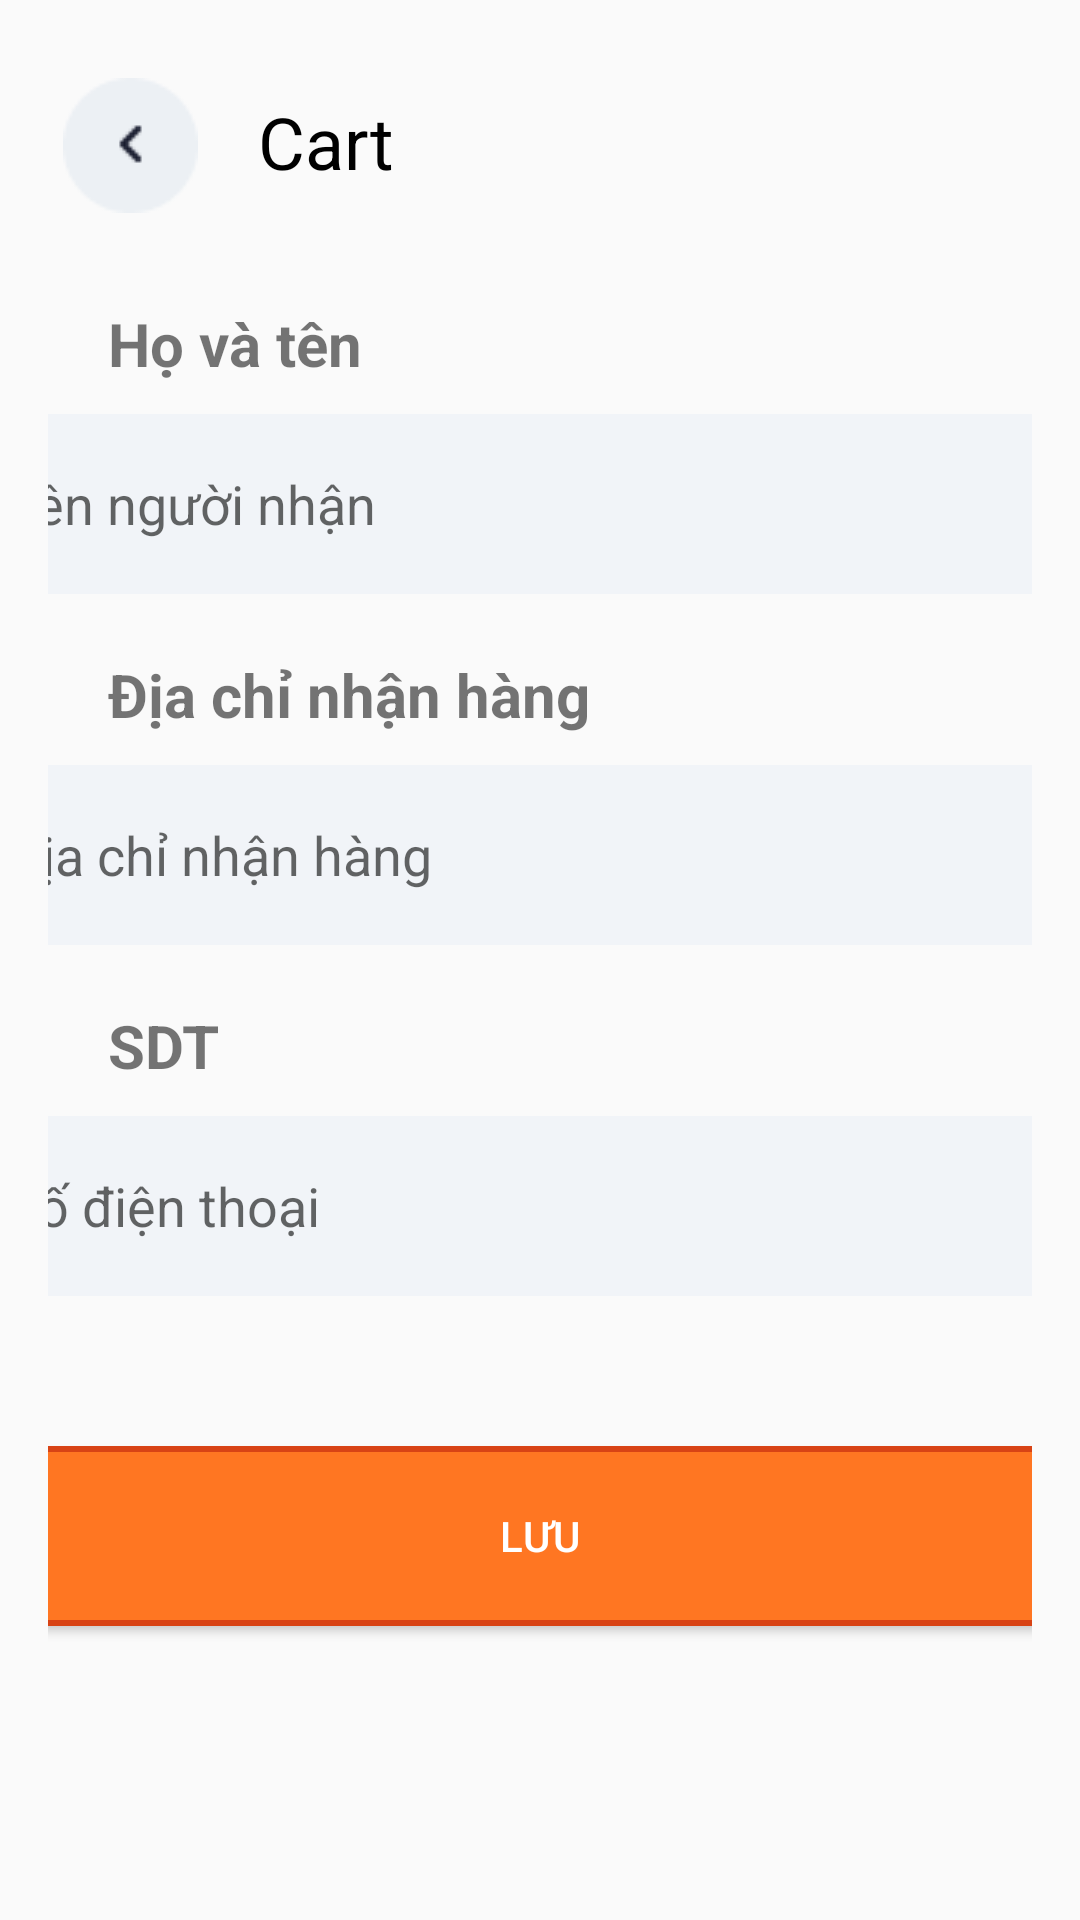

Point at icon controls on the screen. Image size 1080 × 1920, points as (x=x, y=y).
back: (x=130, y=144)
